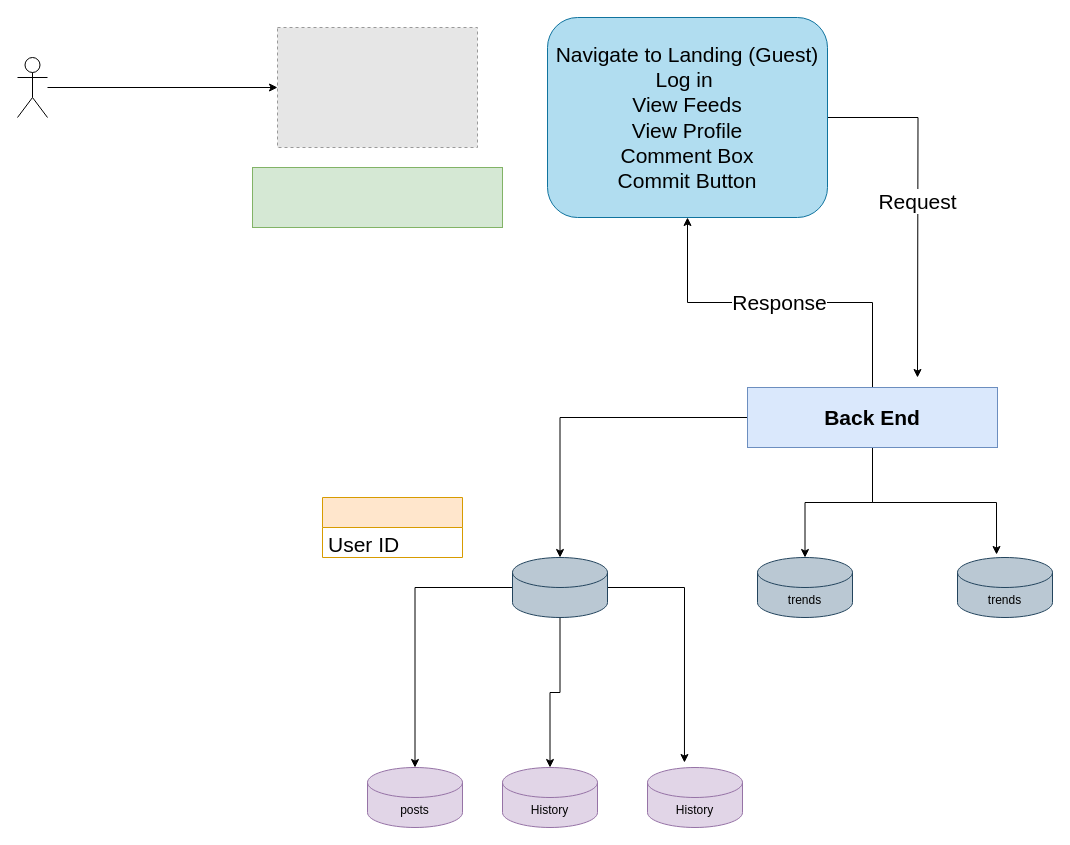
This 1070x845 diagram has some shape labels left out. Grey dashed boxes stand in for pictures. Each missing label, with the box of its shape:
Actor: (16, 56, 48, 118)
Front End: (252, 166, 502, 228)
Key: (322, 496, 462, 558)
User: (512, 556, 608, 618)
